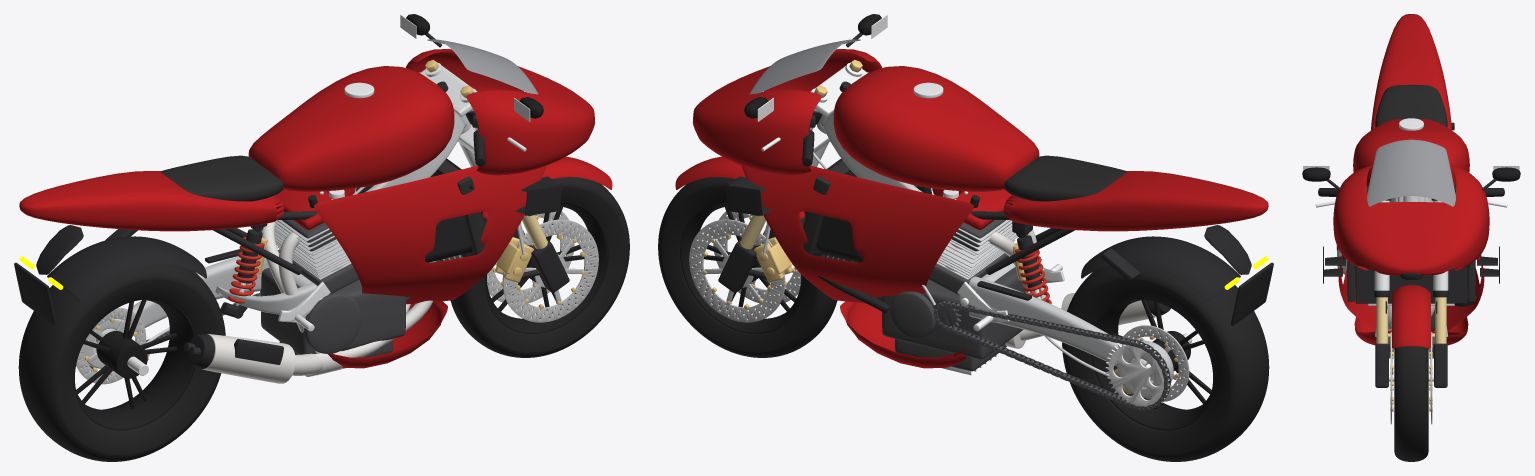
The model's file is SportMotorcycle.fbx.
3 views of the same model, side by side, from view 1: azimuth 30°, elevation 25°; view 2: azimuth 150°, elevation 25°; view 3: azimuth 270°, elevation 25° (orthographic). The views are drawn at different scales.
Parts seen in each view (by area): view 1: Tyre_Rear, Body_FuelTank, Body_SideFairing_R, Body_Tail, Body_Nose, Tyre_Front, Rim_Rear, Fender_RearHugger, Body_Seat, Engine_Crankcase, Disc_Front_R, Engine_ClutchCover (+30 smaller); view 2: Body_FuelTank, Tyre_Rear, Body_SideFairing_L, Body_Tail, Body_Nose, Tyre_Front, Fender_RearHugger, Body_Seat, Chain_525, Swingarm_Arm, Engine_Crankcase, Disc_Front_L (+27 smaller); view 3: Body_Nose, Body_Windscreen, Body_Tail, Tyre_Front, Body_FuelTank, Fender_Front, Body_Seat, Radiator_Guard, Body_SideFairing_R, Body_BellyPan, Body_SideFairing_L, Fork_Foot_L (+10 smaller).
Part boxes in pixels (x1,y1,x2,y2): Tyre_Rear: (18,264,225,461); Body_FuelTank: (248,66,454,191); Body_SideFairing_R: (314,165,546,304); Body_Tail: (19,171,283,231); Body_Nose: (405,49,595,175); Tyre_Front: (450,177,629,357); Rim_Rear: (74,298,195,430); Fender_RearHugger: (47,236,206,300); Body_Seat: (161,155,283,201); Engine_Crankcase: (261,279,405,354); Disc_Front_R: (502,219,598,322); Engine_ClutchCover: (304,293,361,353); Body_FuelTank: (833,66,1039,191); Tyre_Rear: (1062,264,1269,461); Body_SideFairing_L: (741,165,973,302); Body_Tail: (1004,171,1268,231); Body_Nose: (692,49,882,175); Tyre_Front: (658,177,837,357); Fender_RearHugger: (1081,236,1240,300); Body_Seat: (1004,155,1127,201); Chain_525: (933,300,1170,410); Swingarm_Arm: (968,276,1148,366); Engine_Crankcase: (882,279,1023,359); Disc_Front_L: (689,219,785,322); Body_Nose: (1333,165,1489,275); Body_Windscreen: (1367,139,1455,206); Body_Tail: (1371,14,1451,130); Tyre_Front: (1394,346,1428,461); Body_FuelTank: (1353,119,1469,185); Fender_Front: (1392,285,1430,348); Body_Seat: (1375,84,1447,127); Radiator_Guard: (1355,266,1467,303); Body_SideFairing_R: (1338,254,1376,331); Body_BellyPan: (1354,317,1468,345); Body_SideFairing_L: (1434,254,1484,331); Fork_Foot_L: (1434,343,1447,387).
Size of the model in its own units: 2.09 by 1.09 by 0.7821.
